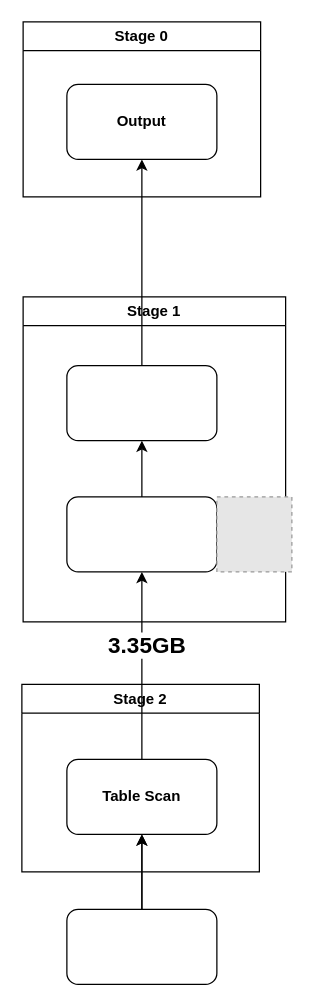
Some shapes in this 314 by 1006 pixel diagram are drawn without their labels. Grey dashed boxes stand in for pictures. The shapes that lost their labels are listed below. From the top down, each one's centre as x and y in pixels, then its label:
At (x=141, y=402): "Local Merge".
At (x=141, y=534): "Partial Sort".
At (x=141, y=946): "Part".
